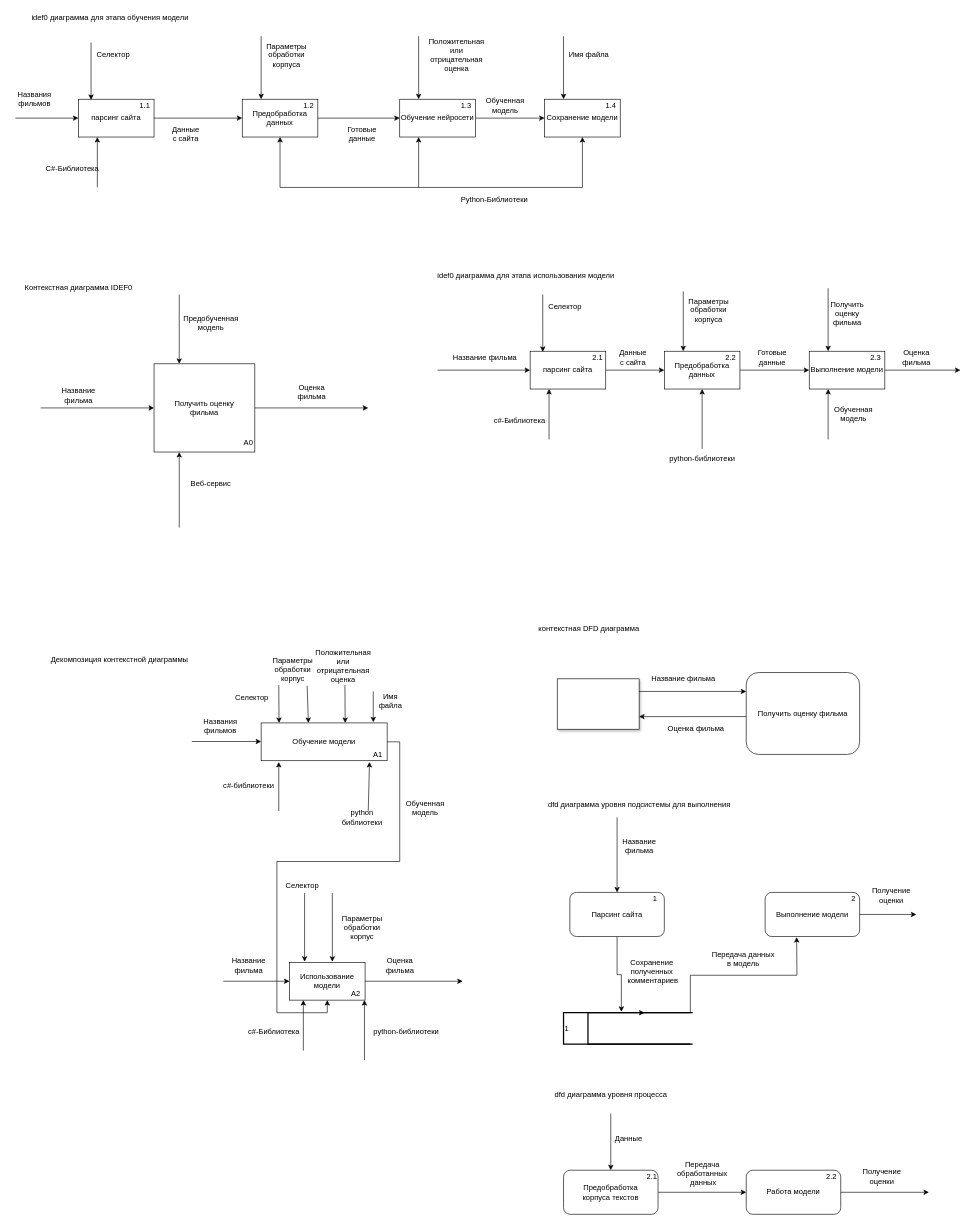
Some shapes in this 977 by 1225 pixel diagram are drawn without their labels. The centre of each missing label's shape, as x and y in pixels:
Корпуса текстов: the point at 639,1028
Пользователь: the point at 598,705
